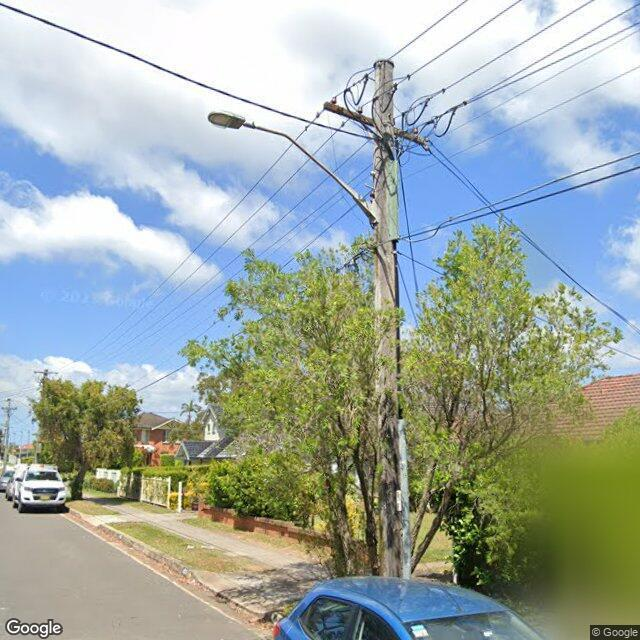crossarm: (322, 102, 431, 147), (34, 371, 59, 375), (2, 406, 18, 411)
streetlight: (206, 110, 379, 224)
timber-pole: (373, 57, 400, 576), (2, 398, 12, 475)
